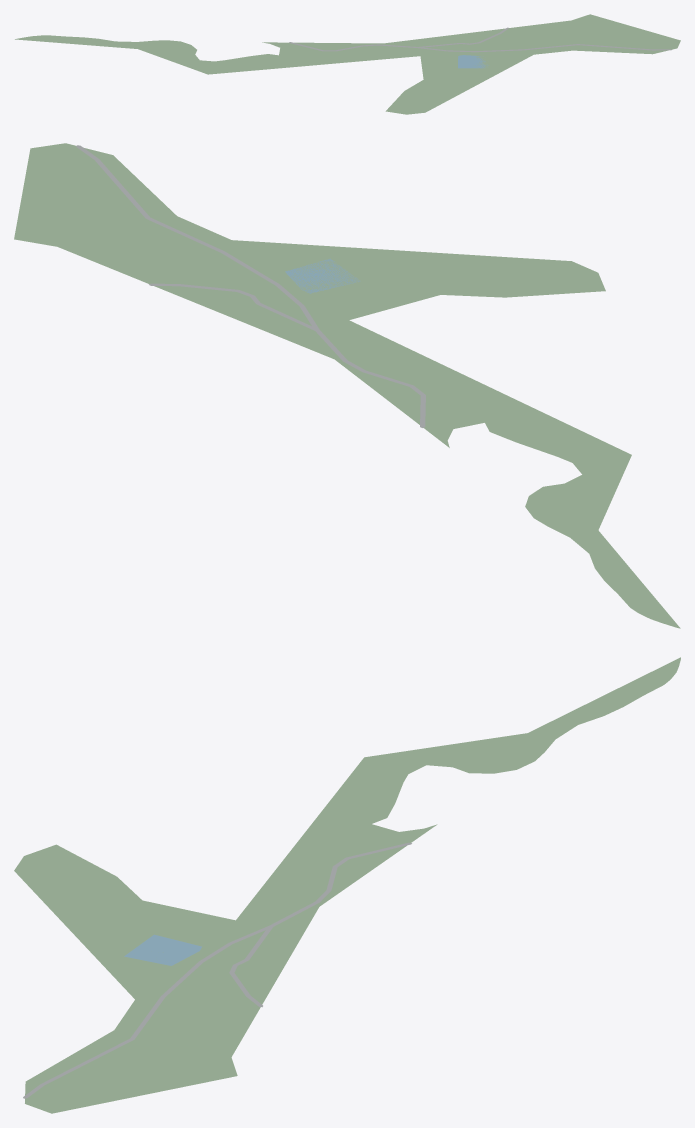
The model's file is -12_33-known-coarse.glb.
3 views of the same model, one above another, from view 1: azimuth 30°, elevation 25°; view 2: azimuth 150°, elevation 25°; view 3: azimuth 270°, elevation 25° (orthographic). The views are drawn at different scales.
Size of the model in its own units: 644 by 0.1 by 398.
